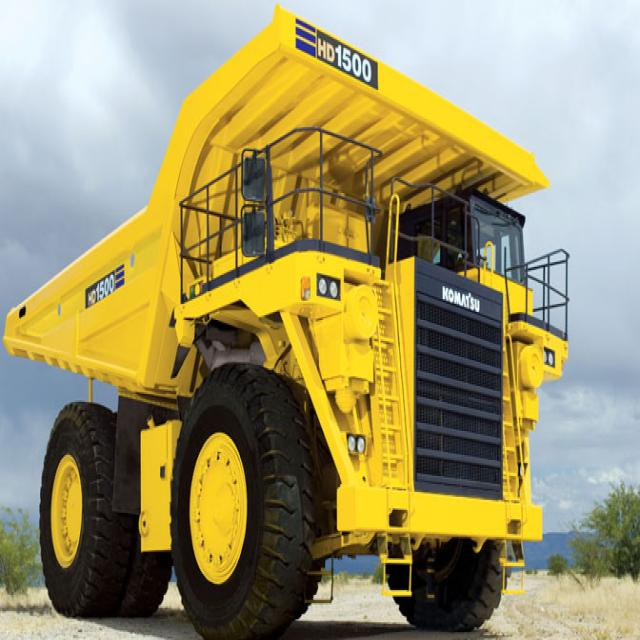dump_truck: (0, 19, 575, 633)
